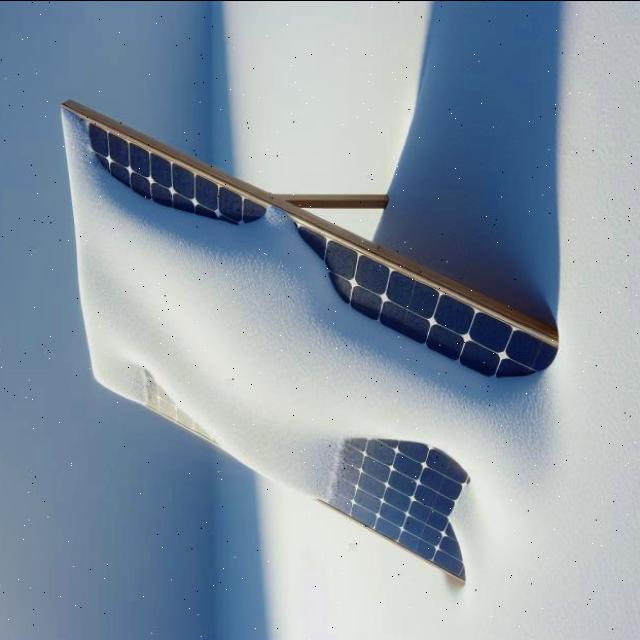Anomaly Solar Panel: (0, 80, 594, 586)
Snow: (0, 79, 594, 584)
